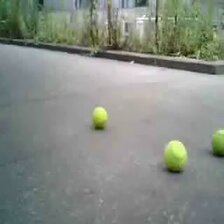tennis: (163, 140, 185, 171), (91, 106, 108, 128), (212, 129, 224, 156)
